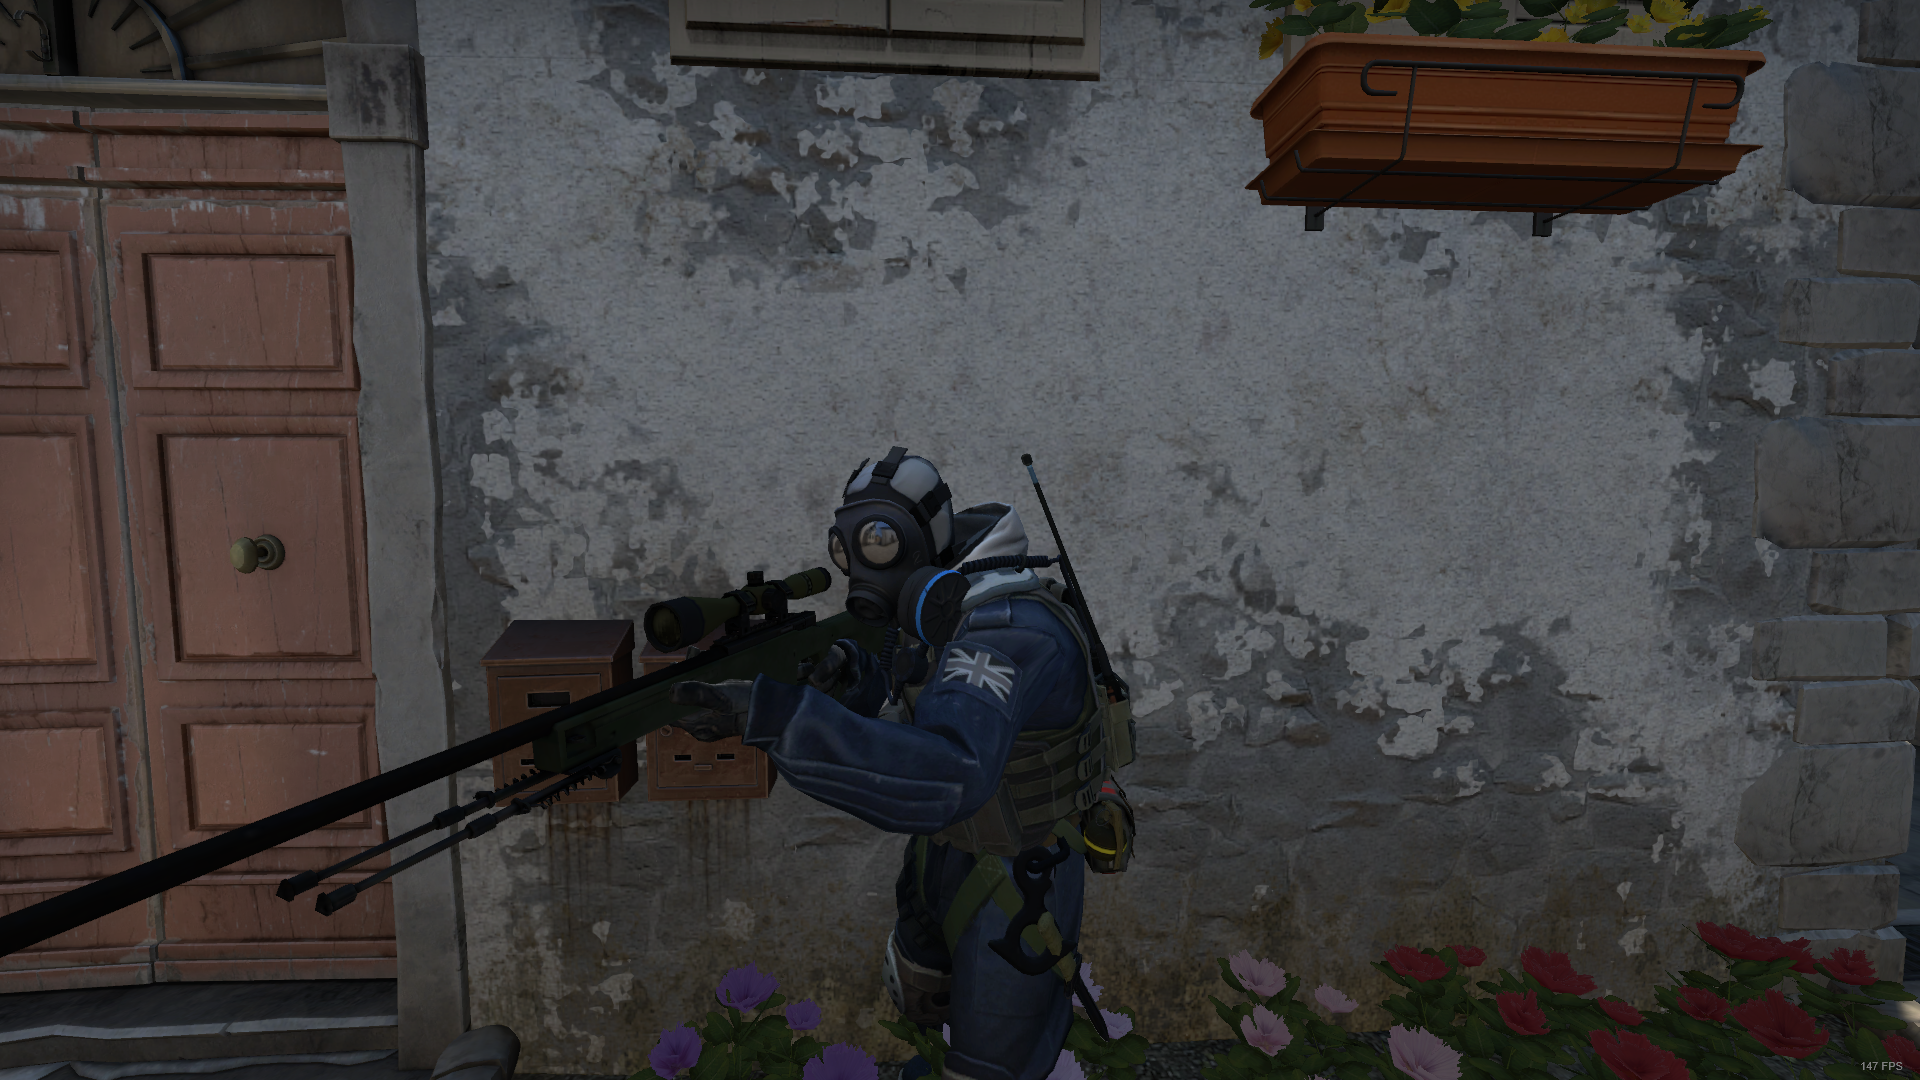ct: (669, 450, 1137, 1080)
